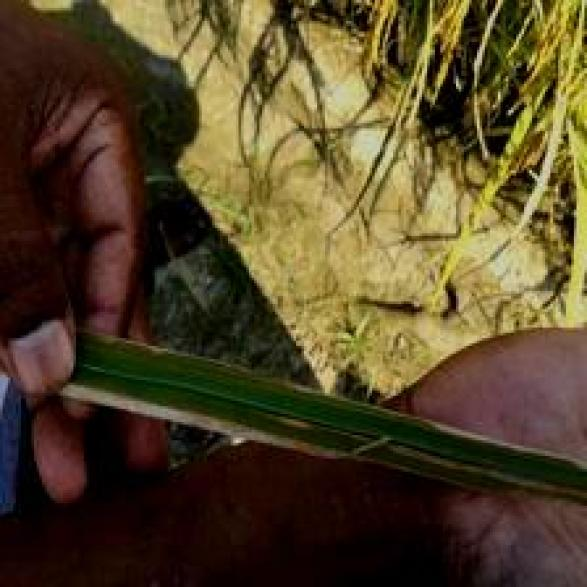Bacteria_Leaf_Blight: (42, 356, 388, 480)
